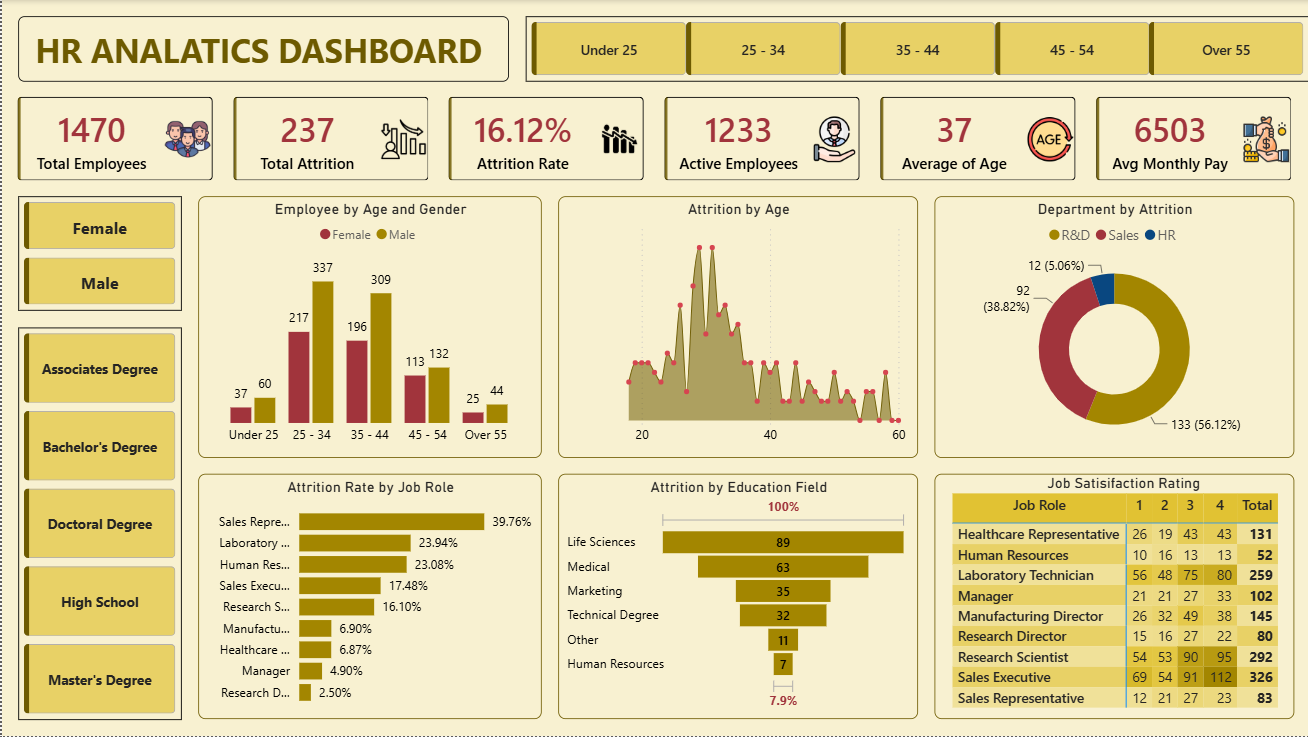

Layout of this report page (visuals, bound fields, positions):
{"tool":"powerbi","page":{"name":"Page 1","canvas":[1280,720],"ordinal":0},"visuals":[{"type":"cardVisual","fields":{"Data":["Sum(HR data.Employee Count)","Sum(HR data.Attrition Count)","Dax Measures.Attrition Rate","Dax Measures.Active Employees","Avg(HR data.Age)","Avg(HR data.Monthly Income)"]},"box":[0,80,1280,112],"z":0},{"type":"clusteredColumnChart","title":"Employee by Age and Gender","fields":{"Category":["HR data.Age Group"],"Series":["HR data.Gender"],"Y":["Dax Measures.Total Employees"]},"box":[192,192,336,256],"z":1000},{"type":"areaChart","title":"Attrition by Age","fields":{"Y":["Dax Measures.Total Attrition"],"Category":["HR data.Age"]},"box":[544,192,352,256],"z":2000},{"type":"donutChart","title":"Department by Attrition","fields":{"Category":["HR data.Department"],"Y":["Dax Measures.Total Attrition"]},"box":[912,192,352,256],"z":3000},{"type":"clusteredBarChart","fields":{"Y":["Dax Measures.Attrition Rate"],"Category":["HR data.Job Role"]},"box":[192,464,336,240],"z":4000},{"type":"pivotTable","title":"Job Satisifaction Rating","fields":{"Rows":["HR data.Job Role"],"Columns":["HR data.Job Satisfaction"],"Values":["Dax Measures.Total Employees"]},"box":[912,464,352,240],"z":5000},{"type":"funnel","title":"Attrition by Education Field","fields":{"Category":["HR data.Education Field"],"Y":["Dax Measures.Total Attrition"]},"box":[544,464,352,240],"z":6000},{"type":"advancedSlicerVisual","fields":{"Values":["HR data.Gender"]},"box":[16,192,160,112],"z":7000},{"type":"advancedSlicerVisual","fields":{"Values":["HR data.Education"]},"box":[16,320,160,384],"z":8000},{"type":"advancedSlicerVisual","fields":{"Values":["HR data.Age Group"]},"box":[512,16,768,64],"z":9000},{"type":"textbox","box":[16,16,480,64],"z":11000}]}

Visuals, with their boxes in screenshot pixels (x1, y1, x2, y2), scaled from the page's 1280x720 canvas onto the 1308x737 screenshot:
cardVisual - Sum(HR data.Employee Count) x Sum(HR data.Attrition Count): <box>0,82,1307,197</box>
"Employee by Age and Gender" clusteredColumnChart: <box>196,197,540,459</box>
"Attrition by Age" areaChart: <box>556,197,916,459</box>
"Department by Attrition" donutChart: <box>932,197,1292,459</box>
clusteredBarChart - Dax Measures.Attrition Rate x HR data.Job Role: <box>196,475,540,721</box>
"Job Satisifaction Rating" pivotTable: <box>932,475,1292,721</box>
"Attrition by Education Field" funnel: <box>556,475,916,721</box>
advancedSlicerVisual - HR data.Gender: <box>16,197,180,311</box>
advancedSlicerVisual - HR data.Education: <box>16,328,180,721</box>
advancedSlicerVisual - HR data.Age Group: <box>523,16,1307,82</box>
textbox: <box>16,16,507,82</box>
